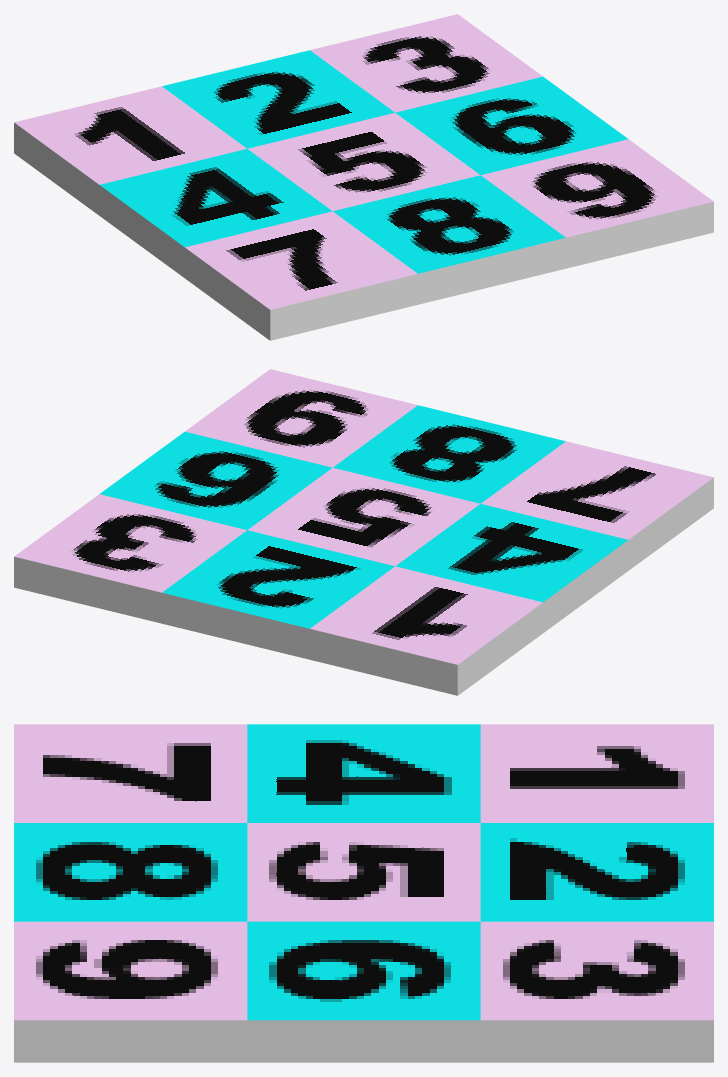
File: glf_strike.glb
3 renders of one model, top to bottom at view 1: azimuth 30°, elevation 25°; view 2: azimuth 150°, elevation 25°; view 3: azimuth 270°, elevation 25°, orthographic. The views are drawn at different scales.
Visible parts, largest first — view 1: polygon0, polygon3, polygon2; view 2: polygon0, polygon3, polygon2; view 3: polygon0, polygon3, polygon2.
Boxes of the visible parts, <box> form: polygon0: <box>14,14,713,340</box>; polygon3: <box>100,50,627,273</box>; polygon2: <box>481,139,713,237</box>; polygon0: <box>14,441,713,695</box>; polygon3: <box>100,405,627,628</box>; polygon2: <box>185,369,417,467</box>; polygon0: <box>14,724,713,1062</box>; polygon3: <box>14,724,713,1020</box>; polygon2: <box>14,921,247,1020</box>.
Bounding box in the file's own units: 274 × 18.28 × 274.
Materials: 3 (3 with a texture image).
